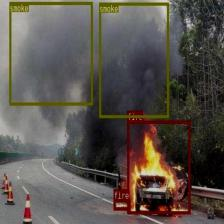fire: (127, 120, 190, 214), (113, 198, 130, 210)
smoke: (9, 1, 93, 105), (99, 2, 168, 117)
